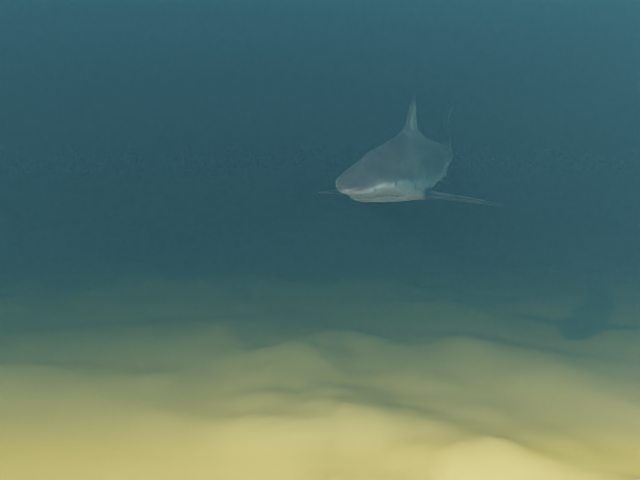Carribean Shark.001: (316, 95, 506, 206)
